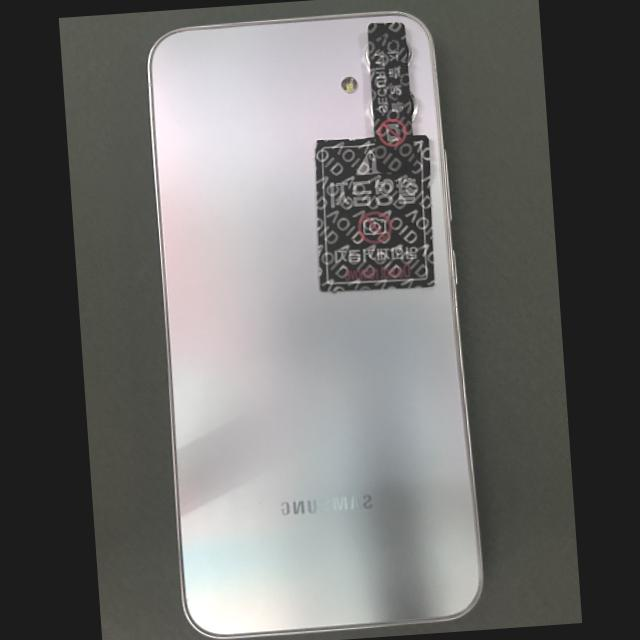lens: (409, 92, 417, 122), (405, 40, 411, 67)
phone: (145, 9, 485, 640)
sticker: (314, 134, 435, 292), (366, 22, 415, 173)
